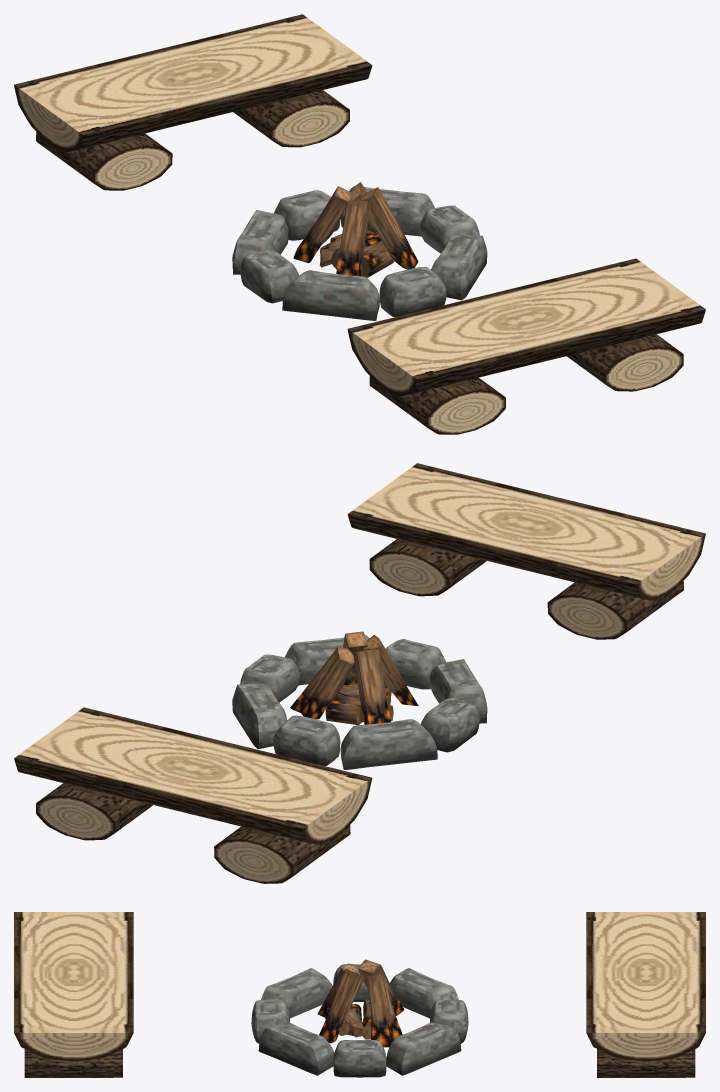
The model's file is bonfire-CGzqt4wQ.glb.
The picture shows the model from 3 angles, top to bottom: view 1: azimuth 30°, elevation 25°; view 2: azimuth 150°, elevation 25°; view 3: azimuth 270°, elevation 25°; orthographic projection. The views are drawn at different scales.
Parts seen in each view (by area): view 1: prop-bench-1, prop-bench-0, prop-bonfire; view 2: prop-bench-1, prop-bench-0, prop-bonfire; view 3: prop-bench-1, prop-bench-0, prop-bonfire.
Boxes of the visible parts, x1,y1,x2,y2 form: prop-bench-1: (347, 258, 705, 434); prop-bench-0: (14, 14, 372, 190); prop-bonfire: (232, 182, 487, 320); prop-bench-1: (347, 463, 705, 639); prop-bench-0: (14, 707, 372, 883); prop-bonfire: (232, 631, 487, 769); prop-bench-1: (14, 912, 133, 1077); prop-bench-0: (586, 912, 705, 1077); prop-bonfire: (251, 959, 468, 1077).
Bounding box in the file's own units: 1.45 × 0.3741 × 3.51.
3 materials, 3 textured.
